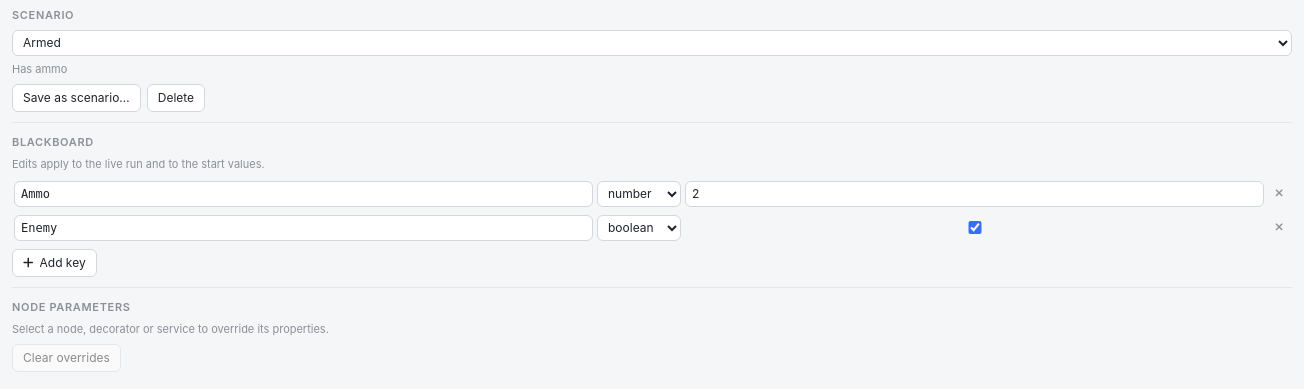
Test: run mode components › RunPanel › loads a scenario from the select and shows its description
The image size is (1304, 389).
Expected: the text "Has ammo" is shown, [12,62,67,76]
Expected: the number field named "Value of Ammo" holds "2", [685,181,1264,207]
Select "Empty" in the dropdown named "Scenario" at coordinates (652, 43), box [12,30,1292,56]
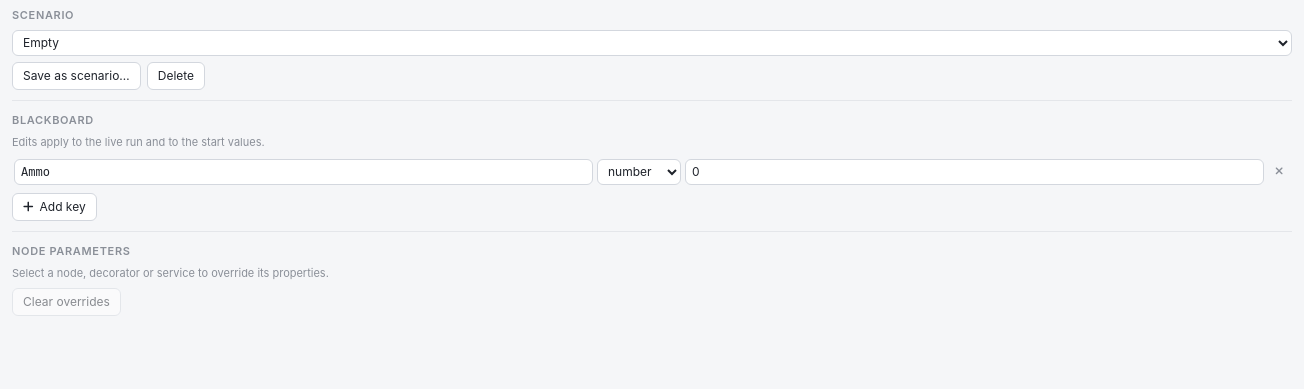
Expected: the number field named "Value of Ammo" holds "0", [685,159,1264,185]
